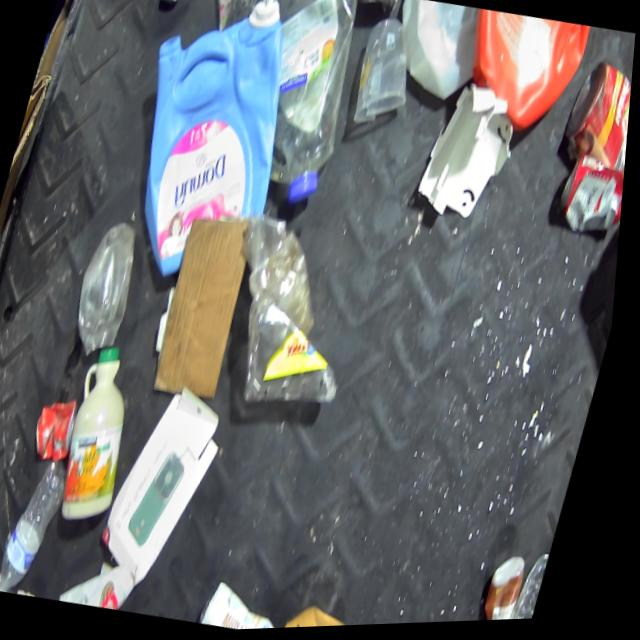can: (559, 59, 635, 166), (560, 159, 629, 234)
milk_jug: (378, 0, 482, 109)
non_white_jug: (118, 0, 315, 231), (454, 9, 593, 146)
plastic_bottle: (0, 450, 85, 600)
